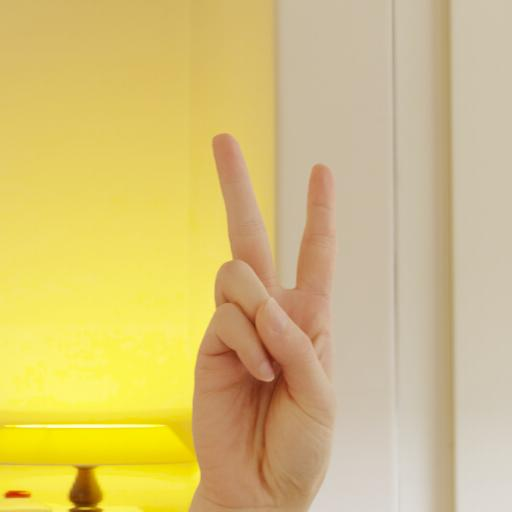V: (186, 123, 340, 512)
